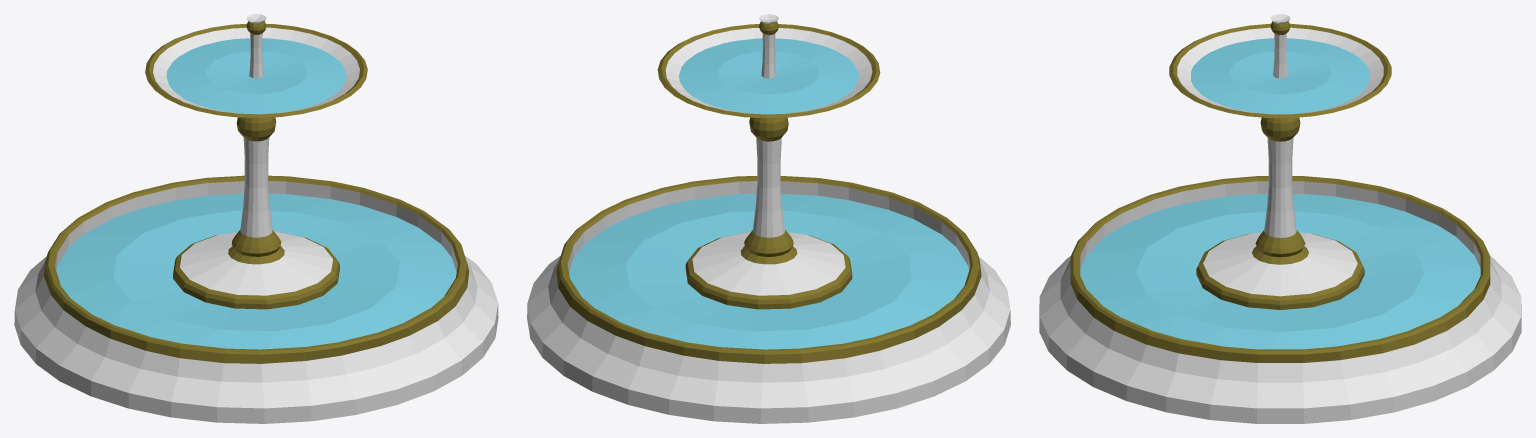
Rendered from fuente inari.fbx.
3 views of the same model, side by side, from view 1: azimuth 30°, elevation 25°; view 2: azimuth 150°, elevation 25°; view 3: azimuth 270°, elevation 25° (orthographic).
Parts seen in each view (by area): view 1: Cube; view 2: Cube; view 3: Cube.
Part boxes in pixels (<box>): Cube: <box>14,14,498,423</box>; Cube: <box>527,14,1010,423</box>; Cube: <box>1039,14,1521,423</box>.
Size of the model in its own units: 290 by 202 by 290.
